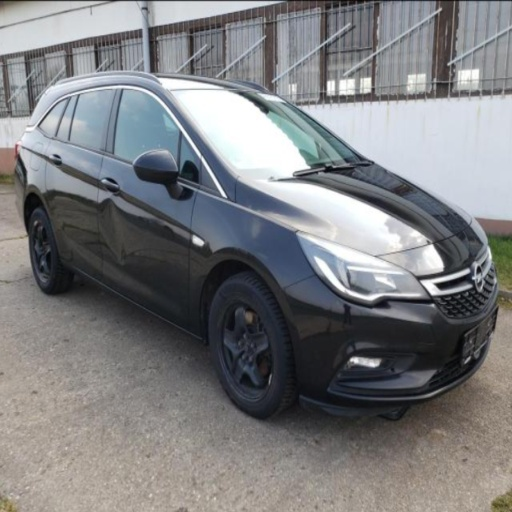dent: (97, 198, 126, 265), (138, 216, 173, 239)
